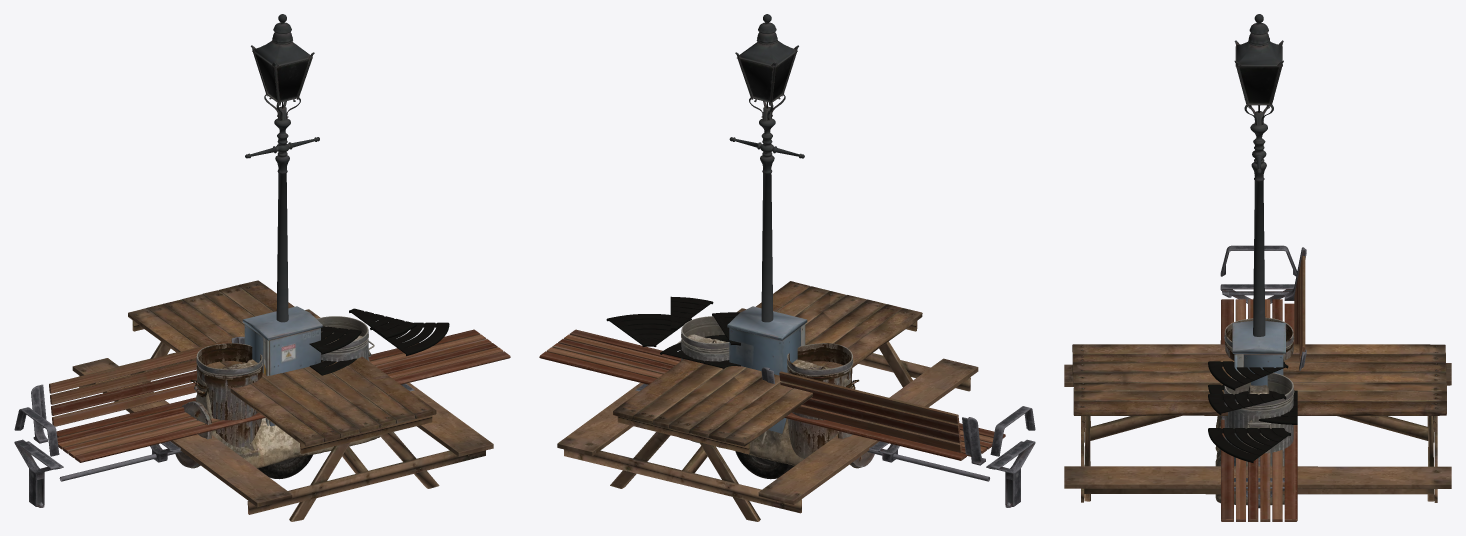
Rendered from props.glb.
3 views of the same model, side by side, from view 1: azimuth 30°, elevation 25°; view 2: azimuth 150°, elevation 25°; view 3: azimuth 270°, elevation 25° (orthographic). The views are drawn at different scales.
Parts seen in each view (by area): view 1: wooden_picnic_table, seat_back, street_lamp_01, seat, metal_trash_can_rust, utility_box_01_box, seat_bench, concrete_road_barrier, metal_trash_can, legs_single, connector_60, connector_30 (+6 smaller); view 2: wooden_picnic_table, seat_back, street_lamp_01, seat_bench, utility_box_01_box, metal_trash_can_rust, seat, concrete_road_barrier, metal_trash_can, connector_60, legs_single, connector_30 (+5 smaller); view 3: wooden_picnic_table, street_lamp_01, seat_bench, metal_trash_can, utility_box_01_box, connector_60, seat, connector_45, connector_30, seat_back, legs_single, metal_trash_can_rust (+3 smaller).
Boxes of the visible parts, x1=… form: wooden_picnic_table: x1=72, y1=280, x2=493, y2=521; seat_back: x1=49, y1=340, x2=228, y2=426; street_lamp_01: x1=245, y1=14, x2=319, y2=322; seat: x1=56, y1=397, x2=265, y2=462; metal_trash_can_rust: x1=194, y1=343, x2=262, y2=447; utility_box_01_box: x1=242, y1=306, x2=322, y2=426; seat_bench: x1=368, y1=329, x2=510, y2=384; concrete_road_barrier: x1=195, y1=335, x2=380, y2=468; metal_trash_can: x1=316, y1=316, x2=371, y2=361; legs_single: x1=14, y1=439, x2=63, y2=507; connector_60: x1=370, y1=322, x2=449, y2=355; connector_30: x1=349, y1=308, x2=416, y2=338; wooden_picnic_table: x1=557, y1=281, x2=978, y2=521; seat_back: x1=779, y1=371, x2=962, y2=452; street_lamp_01: x1=729, y1=14, x2=804, y2=322; seat_bench: x1=539, y1=329, x2=681, y2=384; utility_box_01_box: x1=727, y1=306, x2=807, y2=433; metal_trash_can_rust: x1=787, y1=343, x2=855, y2=458; seat: x1=784, y1=412, x2=1005, y2=460; concrete_road_barrier: x1=679, y1=334, x2=852, y2=465; metal_trash_can: x1=681, y1=316, x2=729, y2=443; connector_60: x1=606, y1=314, x2=691, y2=346; legs_single: x1=986, y1=439, x2=1035, y2=507; connector_30: x1=670, y1=296, x2=713, y2=329; wooden_picnic_table: x1=1064, y1=344, x2=1451, y2=502; street_lamp_01: x1=1234, y1=14, x2=1283, y2=336; seat_bench: x1=1221, y1=419, x2=1297, y2=521; metal_trash_can: x1=1224, y1=372, x2=1294, y2=505; utility_box_01_box: x1=1232, y1=321, x2=1285, y2=385; connector_60: x1=1208, y1=428, x2=1290, y2=462; seat: x1=1220, y1=299, x2=1294, y2=344; connector_45: x1=1208, y1=361, x2=1288, y2=390; connector_30: x1=1208, y1=394, x2=1286, y2=415; seat_back: x1=1294, y1=255, x2=1305, y2=360; legs_single: x1=1220, y1=284, x2=1294, y2=303; metal_trash_can_rust: x1=1224, y1=317, x2=1294, y2=361.
Bounding box in the file's own units: 4.34 × 4.17 × 3.02.
Materials: 15 (15 with a texture image).
